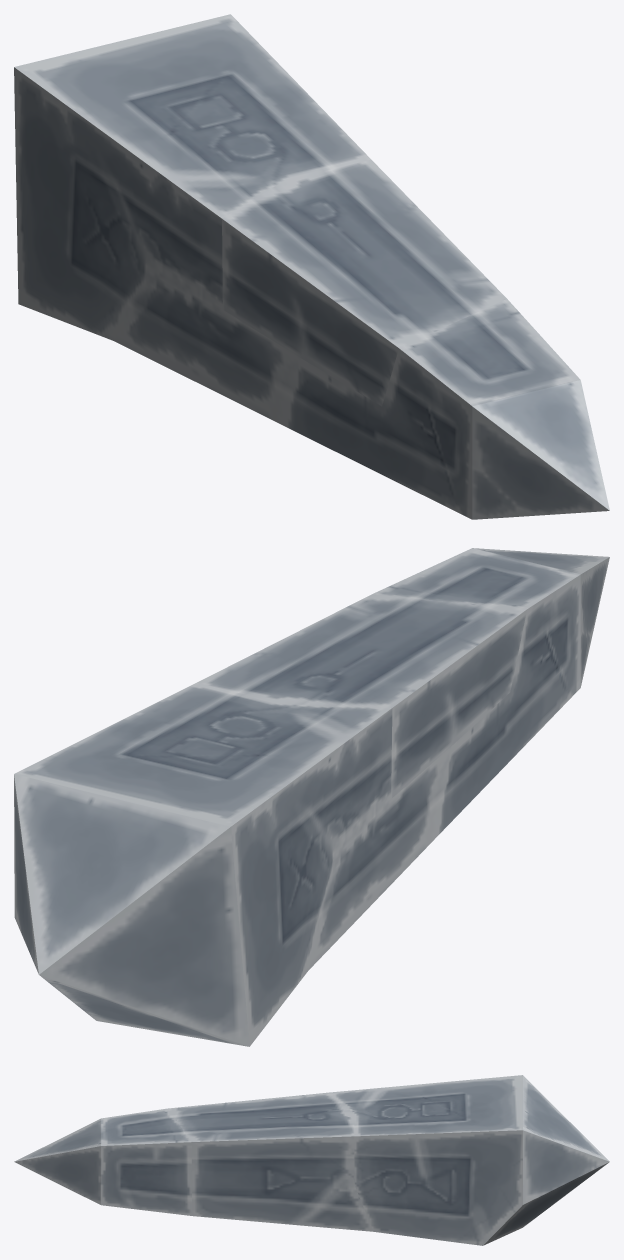
File: obelisk.glb
3 views of the same model, one above another, from view 1: azimuth 30°, elevation 25°; view 2: azimuth 150°, elevation 25°; view 3: azimuth 270°, elevation 25° (orthographic). The views are drawn at different scales.
Visible parts, largest first — view 1: obsidian_obelisk.obelisk-MeshNodes["obelisk"]; view 2: obsidian_obelisk.obelisk-MeshNodes["obelisk"]; view 3: obsidian_obelisk.obelisk-MeshNodes["obelisk"].
Boxes of the visible parts, bbox=[...] form: obsidian_obelisk.obelisk-MeshNodes["obelisk"]: bbox=[14, 14, 609, 519]; obsidian_obelisk.obelisk-MeshNodes["obelisk"]: bbox=[14, 548, 609, 1046]; obsidian_obelisk.obelisk-MeshNodes["obelisk"]: bbox=[14, 1075, 609, 1245].
Size of the model in its own units: 0.775 by 0.75 by 3.42.
Materials: 1 (1 with a texture image).
